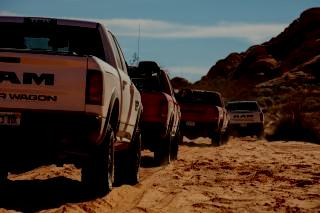ram: (0, 68, 59, 92)
